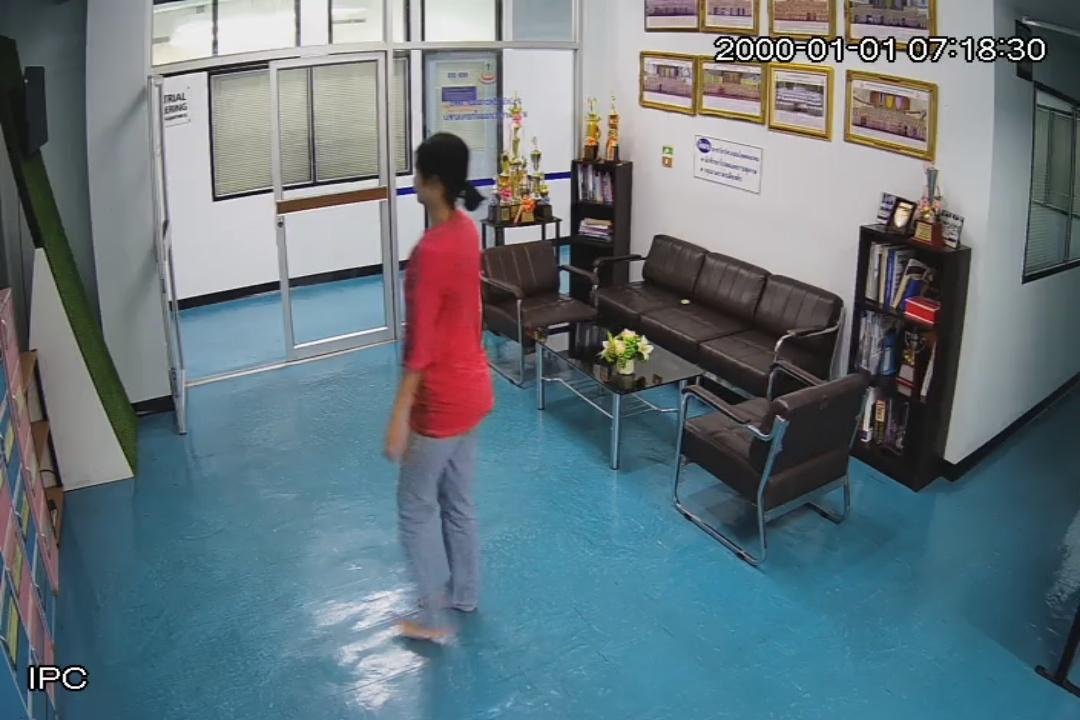normal: (388, 133, 490, 642)
